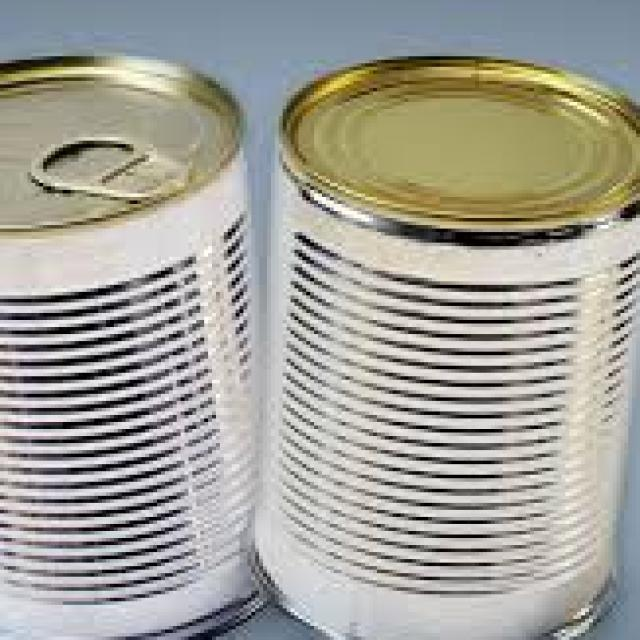organic: (255, 57, 626, 628), (3, 42, 266, 616)
